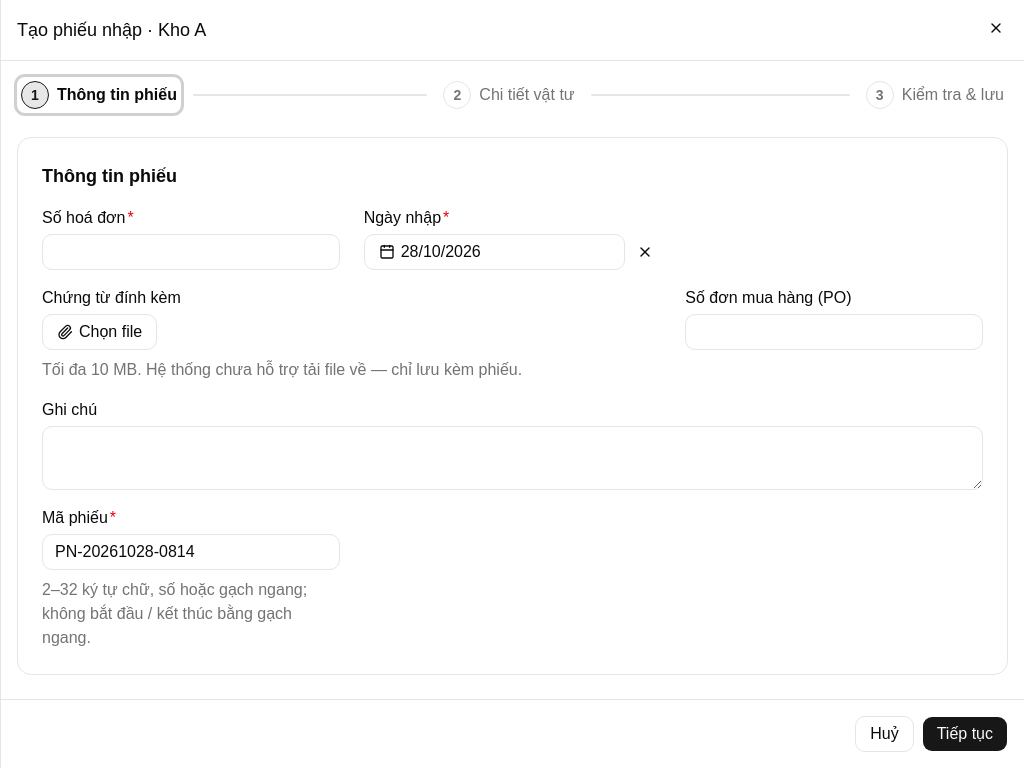
ImportFormSheet › available-materials lỗi → hiện alert kèm Thử lại ở bước ②; bấm Thử lại thì nạp lại
Step 1. Type "HD-9" into the field labelled "Số hoá đơn *" → {"x": 191, "y": 252}, box [42,234,340,270]
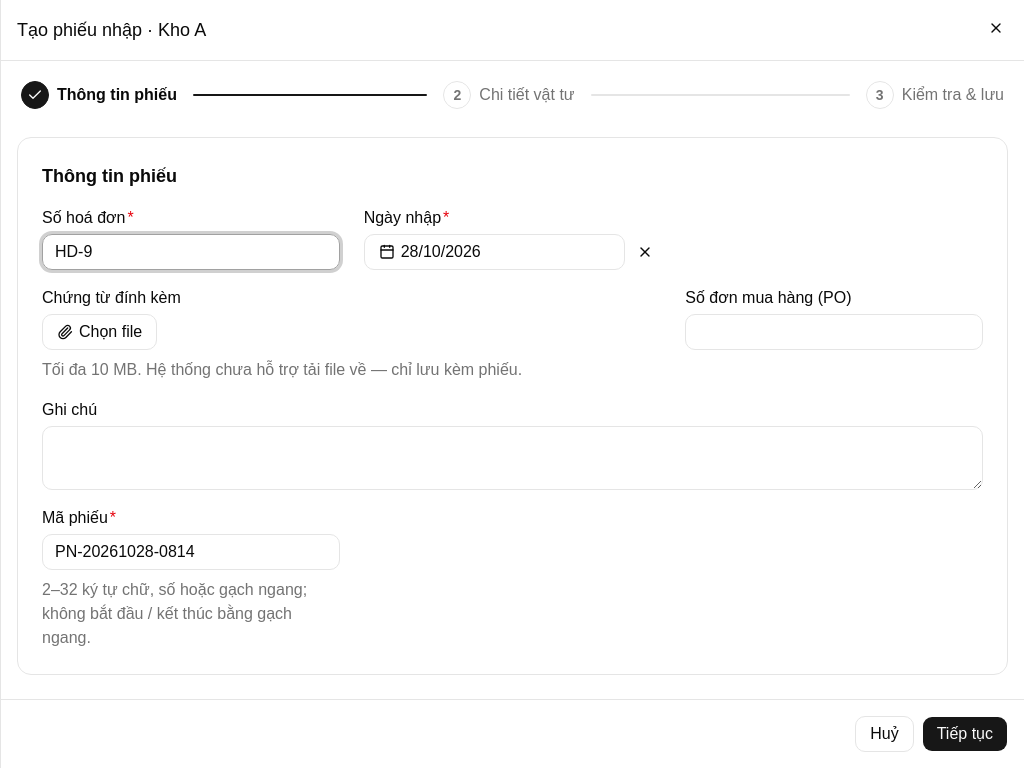
Step 2. Click the button "Tiếp tục" → {"x": 965, "y": 734}, box [922,716,1008,752]
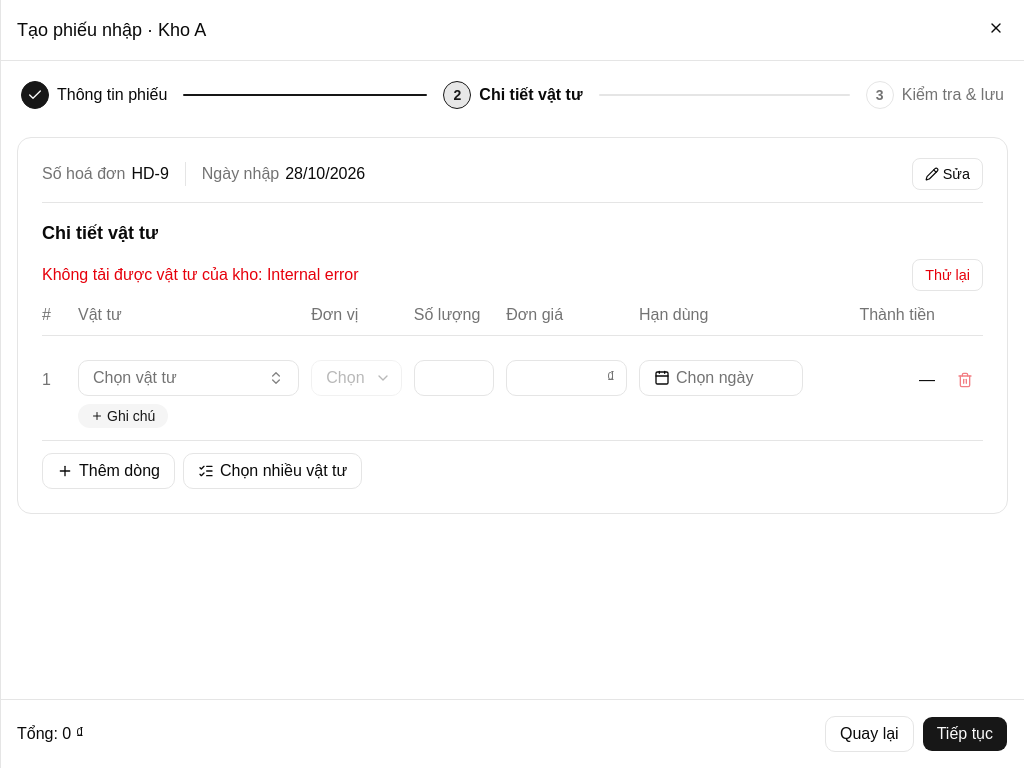
Step 3. Click the button "Thử lại" → {"x": 948, "y": 275}, box [912,259,983,291]
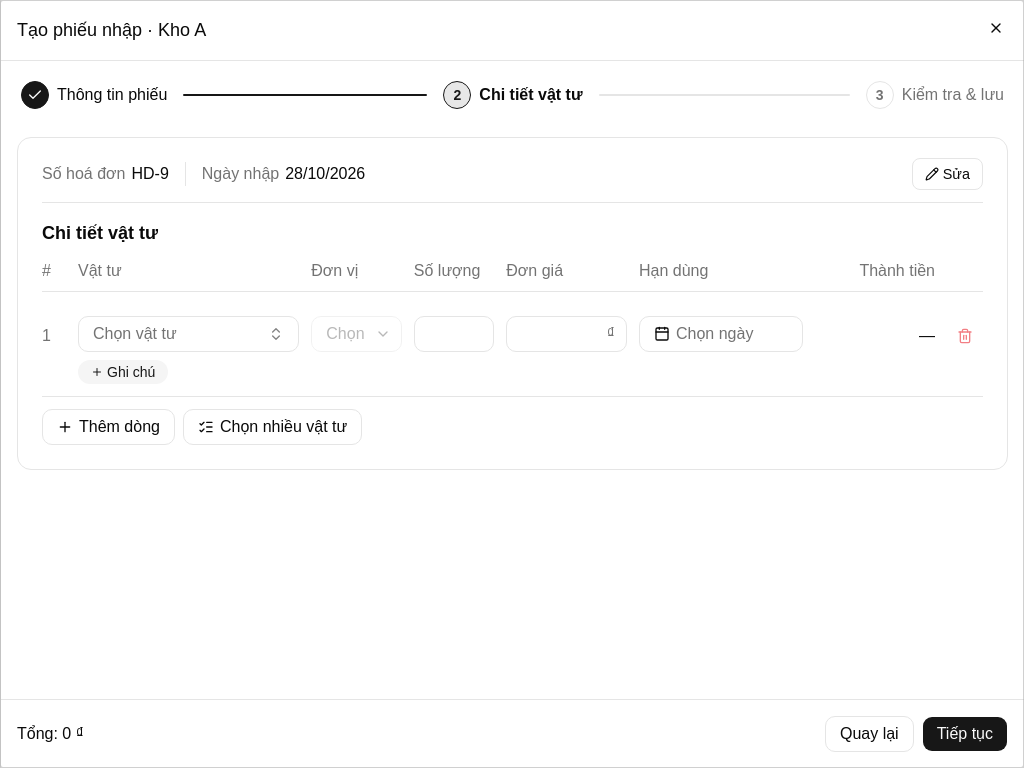
Expected: the message "Không tải được vật tư của kho: Internal error Thử lại" is gone
Step 4. Click the dropdown named "Vật tư dòng 1" → {"x": 189, "y": 334}, box [78,316,299,352]
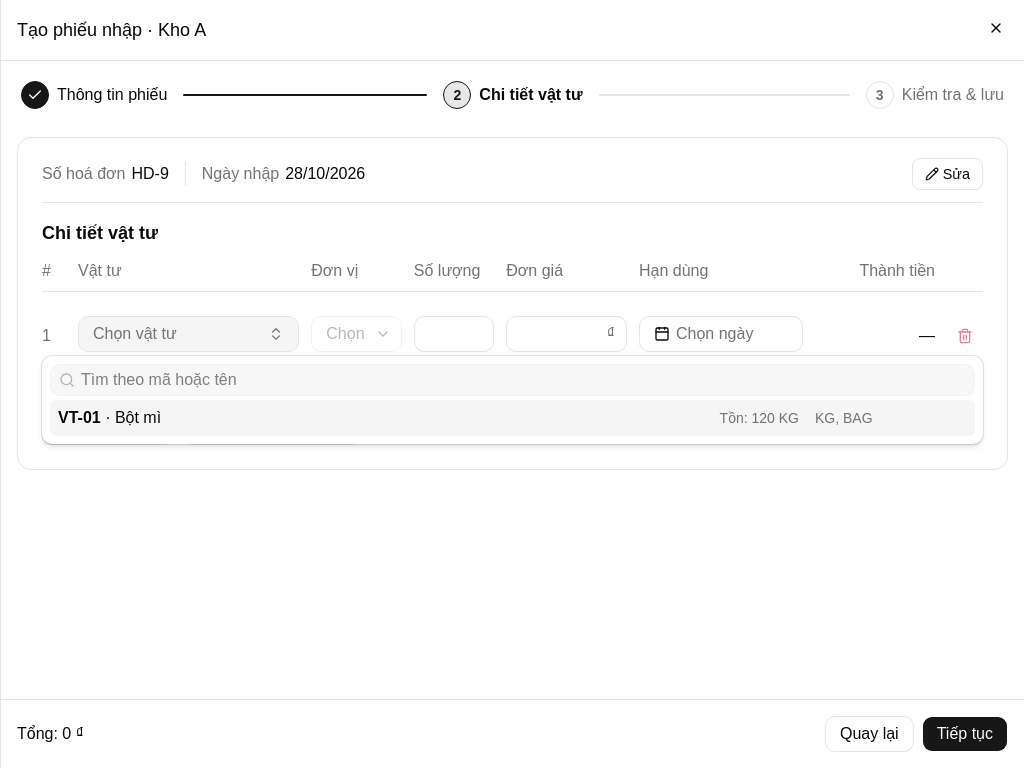
Expected: the option "VT-01 · Bột mì Tồn: 120 KG KG, BAG" is shown, [50,400,975,436]
